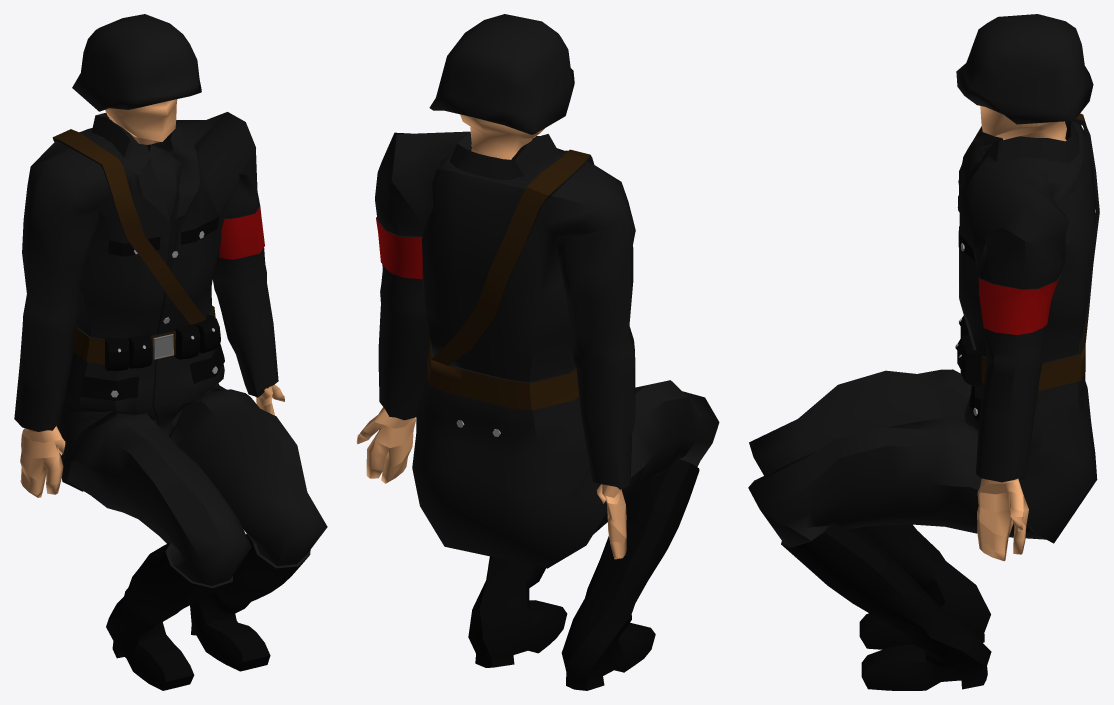
Rendered from german_infantry_relaxed_crouch_03.glb.
3 views of the same model, side by side, from view 1: azimuth 30°, elevation 25°; view 2: azimuth 150°, elevation 25°; view 3: azimuth 270°, elevation 25° (orthographic). The views are drawn at different scales.
Parts seen in each view (by area): view 1: Soldier_1_Static, Helmet_Static; view 2: Soldier_1_Static, Helmet_Static; view 3: Soldier_1_Static, Helmet_Static.
Part boxes in pixels (x1,y1,x2,y2): Soldier_1_Static: (14,99,327,690); Helmet_Static: (72,14,201,111); Soldier_1_Static: (356,114,719,690); Helmet_Static: (429,14,574,134); Soldier_1_Static: (748,106,1099,690); Helmet_Static: (956,14,1093,124).
Size of the model in its own units: 0.5644 by 1.26 by 0.6278.
1 material, 1 textured.
